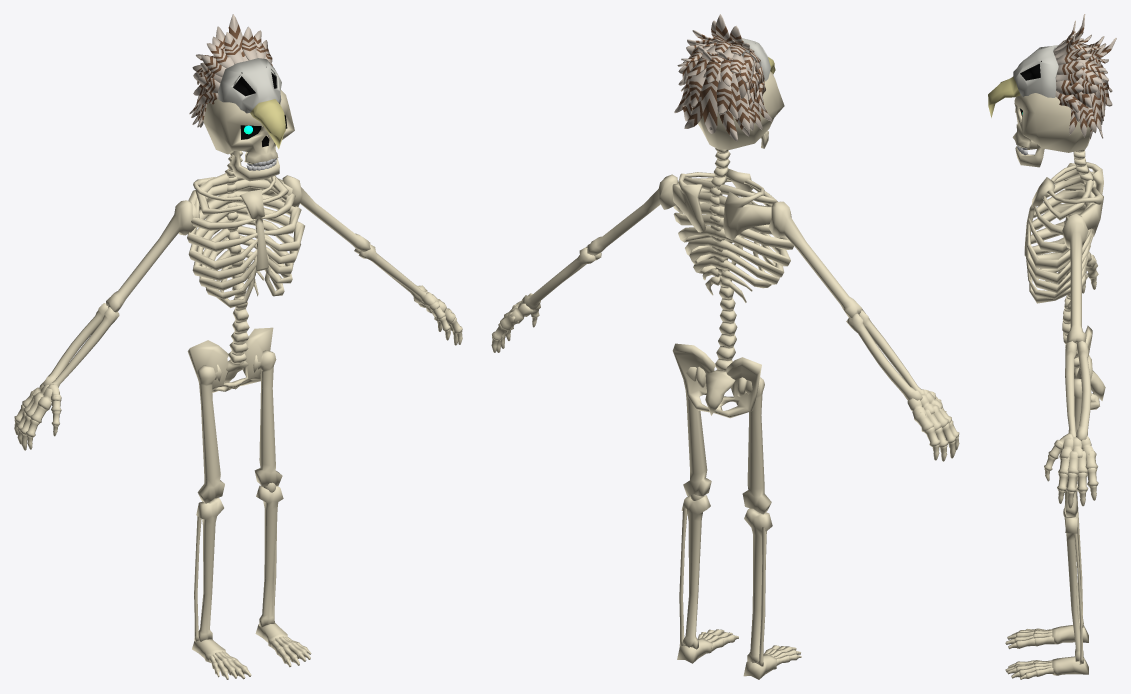
Rendered from Skelett_Parts.fbx.
3 renders of one model, left to right at view 1: azimuth 30°, elevation 25°; view 2: azimuth 150°, elevation 25°; view 3: azimuth 270°, elevation 25°, orthographic. The views are drawn at different scales.
Parts seen in each view (by area): view 1: Ripps, EagleHelmet, Spine, Skull, Cylinder.002, Cylinder.003, Cylinder.007, Cylinder.006, Plane.004, Plane.001, Plane.006, Cylinder.001 (+5 smaller); view 2: EagleHelmet, Ripps, Spine, Plane, Cylinder.006, Cylinder.002, Cylinder.003, Plane.004, Plane.001, Cylinder.007, Skull, Plane.006 (+4 smaller); view 3: EagleHelmet, Ripps, Skull, Plane.006, Plane.005, Spine, Cylinder.006, Plane, Cylinder.005, Cylinder.001, Cube, Cylinder.007 (+8 smaller).
Boxes of the visible parts, box(x1,y1,x2,y2) form: Ripps: box(187, 173, 304, 307); EagleHelmet: box(189, 14, 286, 149); Spine: box(187, 151, 273, 392); Skull: box(203, 90, 294, 166); Cylinder.002: box(194, 498, 223, 642); Cylinder.003: box(197, 364, 224, 503); Cylinder.007: box(253, 350, 282, 486); Cylinder.006: box(256, 485, 283, 627); Plane.004: box(106, 200, 195, 312); Plane.001: box(43, 303, 119, 387); Plane.006: box(280, 175, 370, 251); Cylinder.001: box(192, 639, 251, 679); EagleHelmet: box(674, 14, 775, 141); Ripps: box(673, 169, 793, 302); Spine: box(672, 148, 761, 418); Plane: box(672, 172, 771, 240); Cylinder.006: box(679, 495, 710, 649); Cylinder.002: box(744, 508, 772, 666); Cylinder.003: box(737, 377, 771, 514); Plane.004: box(768, 201, 863, 317); Plane.001: box(846, 310, 924, 400); Cylinder.007: box(683, 366, 711, 496); Skull: box(691, 66, 784, 149); Plane.006: box(587, 174, 677, 255); EagleHelmet: box(988, 14, 1116, 139); Ripps: box(1024, 169, 1095, 307); Skull: box(1012, 91, 1090, 152); Plane.006: box(1062, 214, 1088, 343); Plane.005: box(1065, 341, 1091, 440); Spine: box(1062, 149, 1105, 409); Cylinder.006: box(1064, 513, 1084, 664); Plane: box(1046, 162, 1103, 236); Cylinder.005: box(1005, 656, 1088, 679); Cylinder.001: box(1005, 625, 1088, 649); Cube: box(1054, 251, 1095, 458); Cylinder.007: box(1064, 374, 1082, 516).
Size of the model in its own units: 1015 by 1399 by 253.
